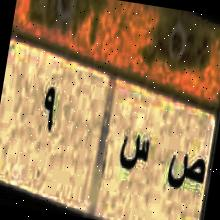9: (37, 78, 60, 140)
saad: (162, 144, 208, 203)
seen: (116, 123, 154, 181)
